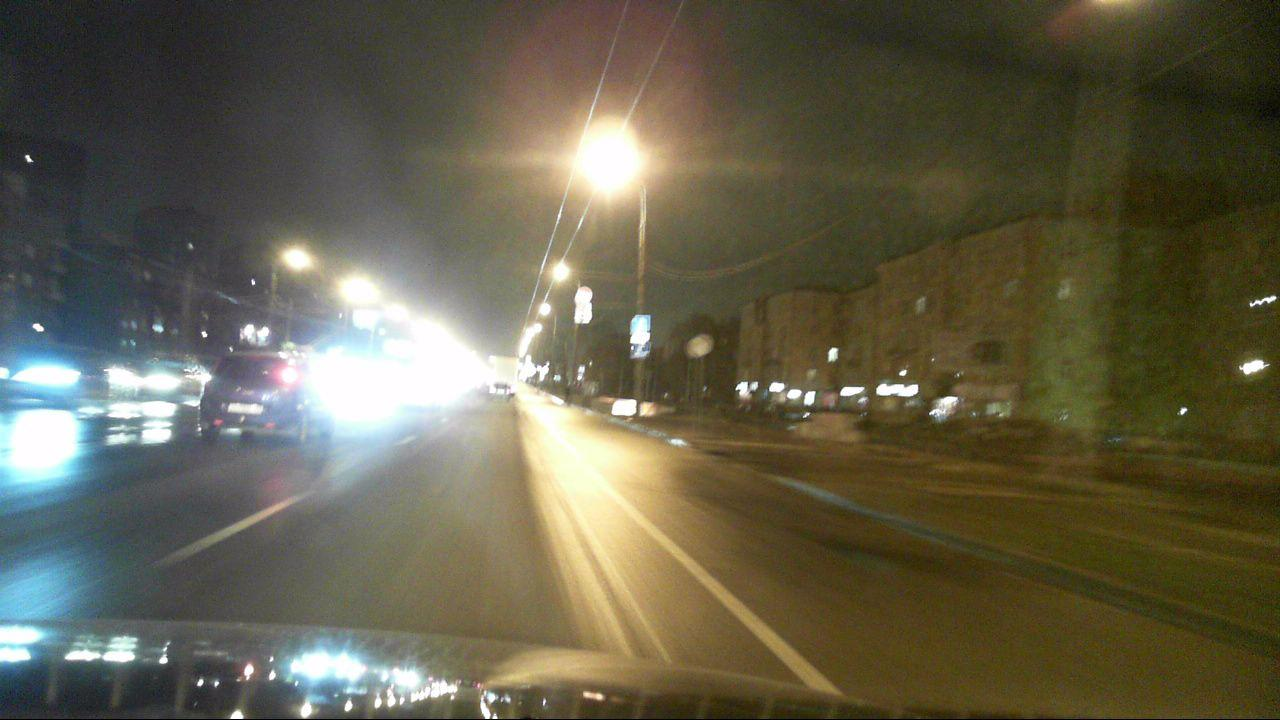6_6: (631, 342, 648, 359)
